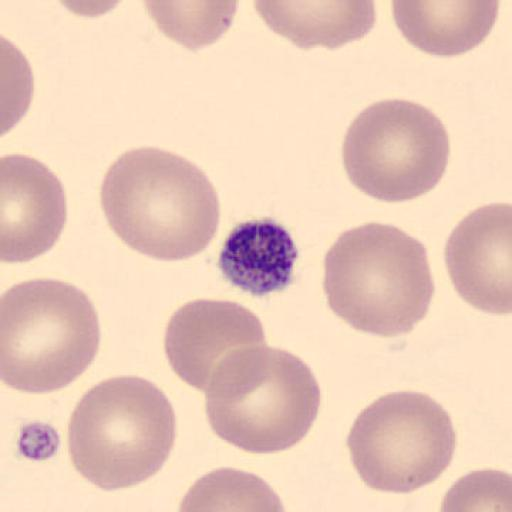Platelet: (216, 215, 302, 298), (14, 417, 64, 465)
RBC: (98, 142, 222, 264), (320, 220, 437, 340), (201, 343, 324, 457), (66, 372, 180, 494), (340, 94, 452, 204), (346, 387, 458, 496), (2, 276, 103, 396), (162, 296, 270, 395), (442, 200, 512, 316), (2, 152, 69, 266), (251, 0, 379, 52), (390, 0, 502, 59), (175, 465, 289, 512), (139, 0, 242, 52), (2, 34, 36, 140), (438, 467, 512, 512), (50, 0, 132, 20)
